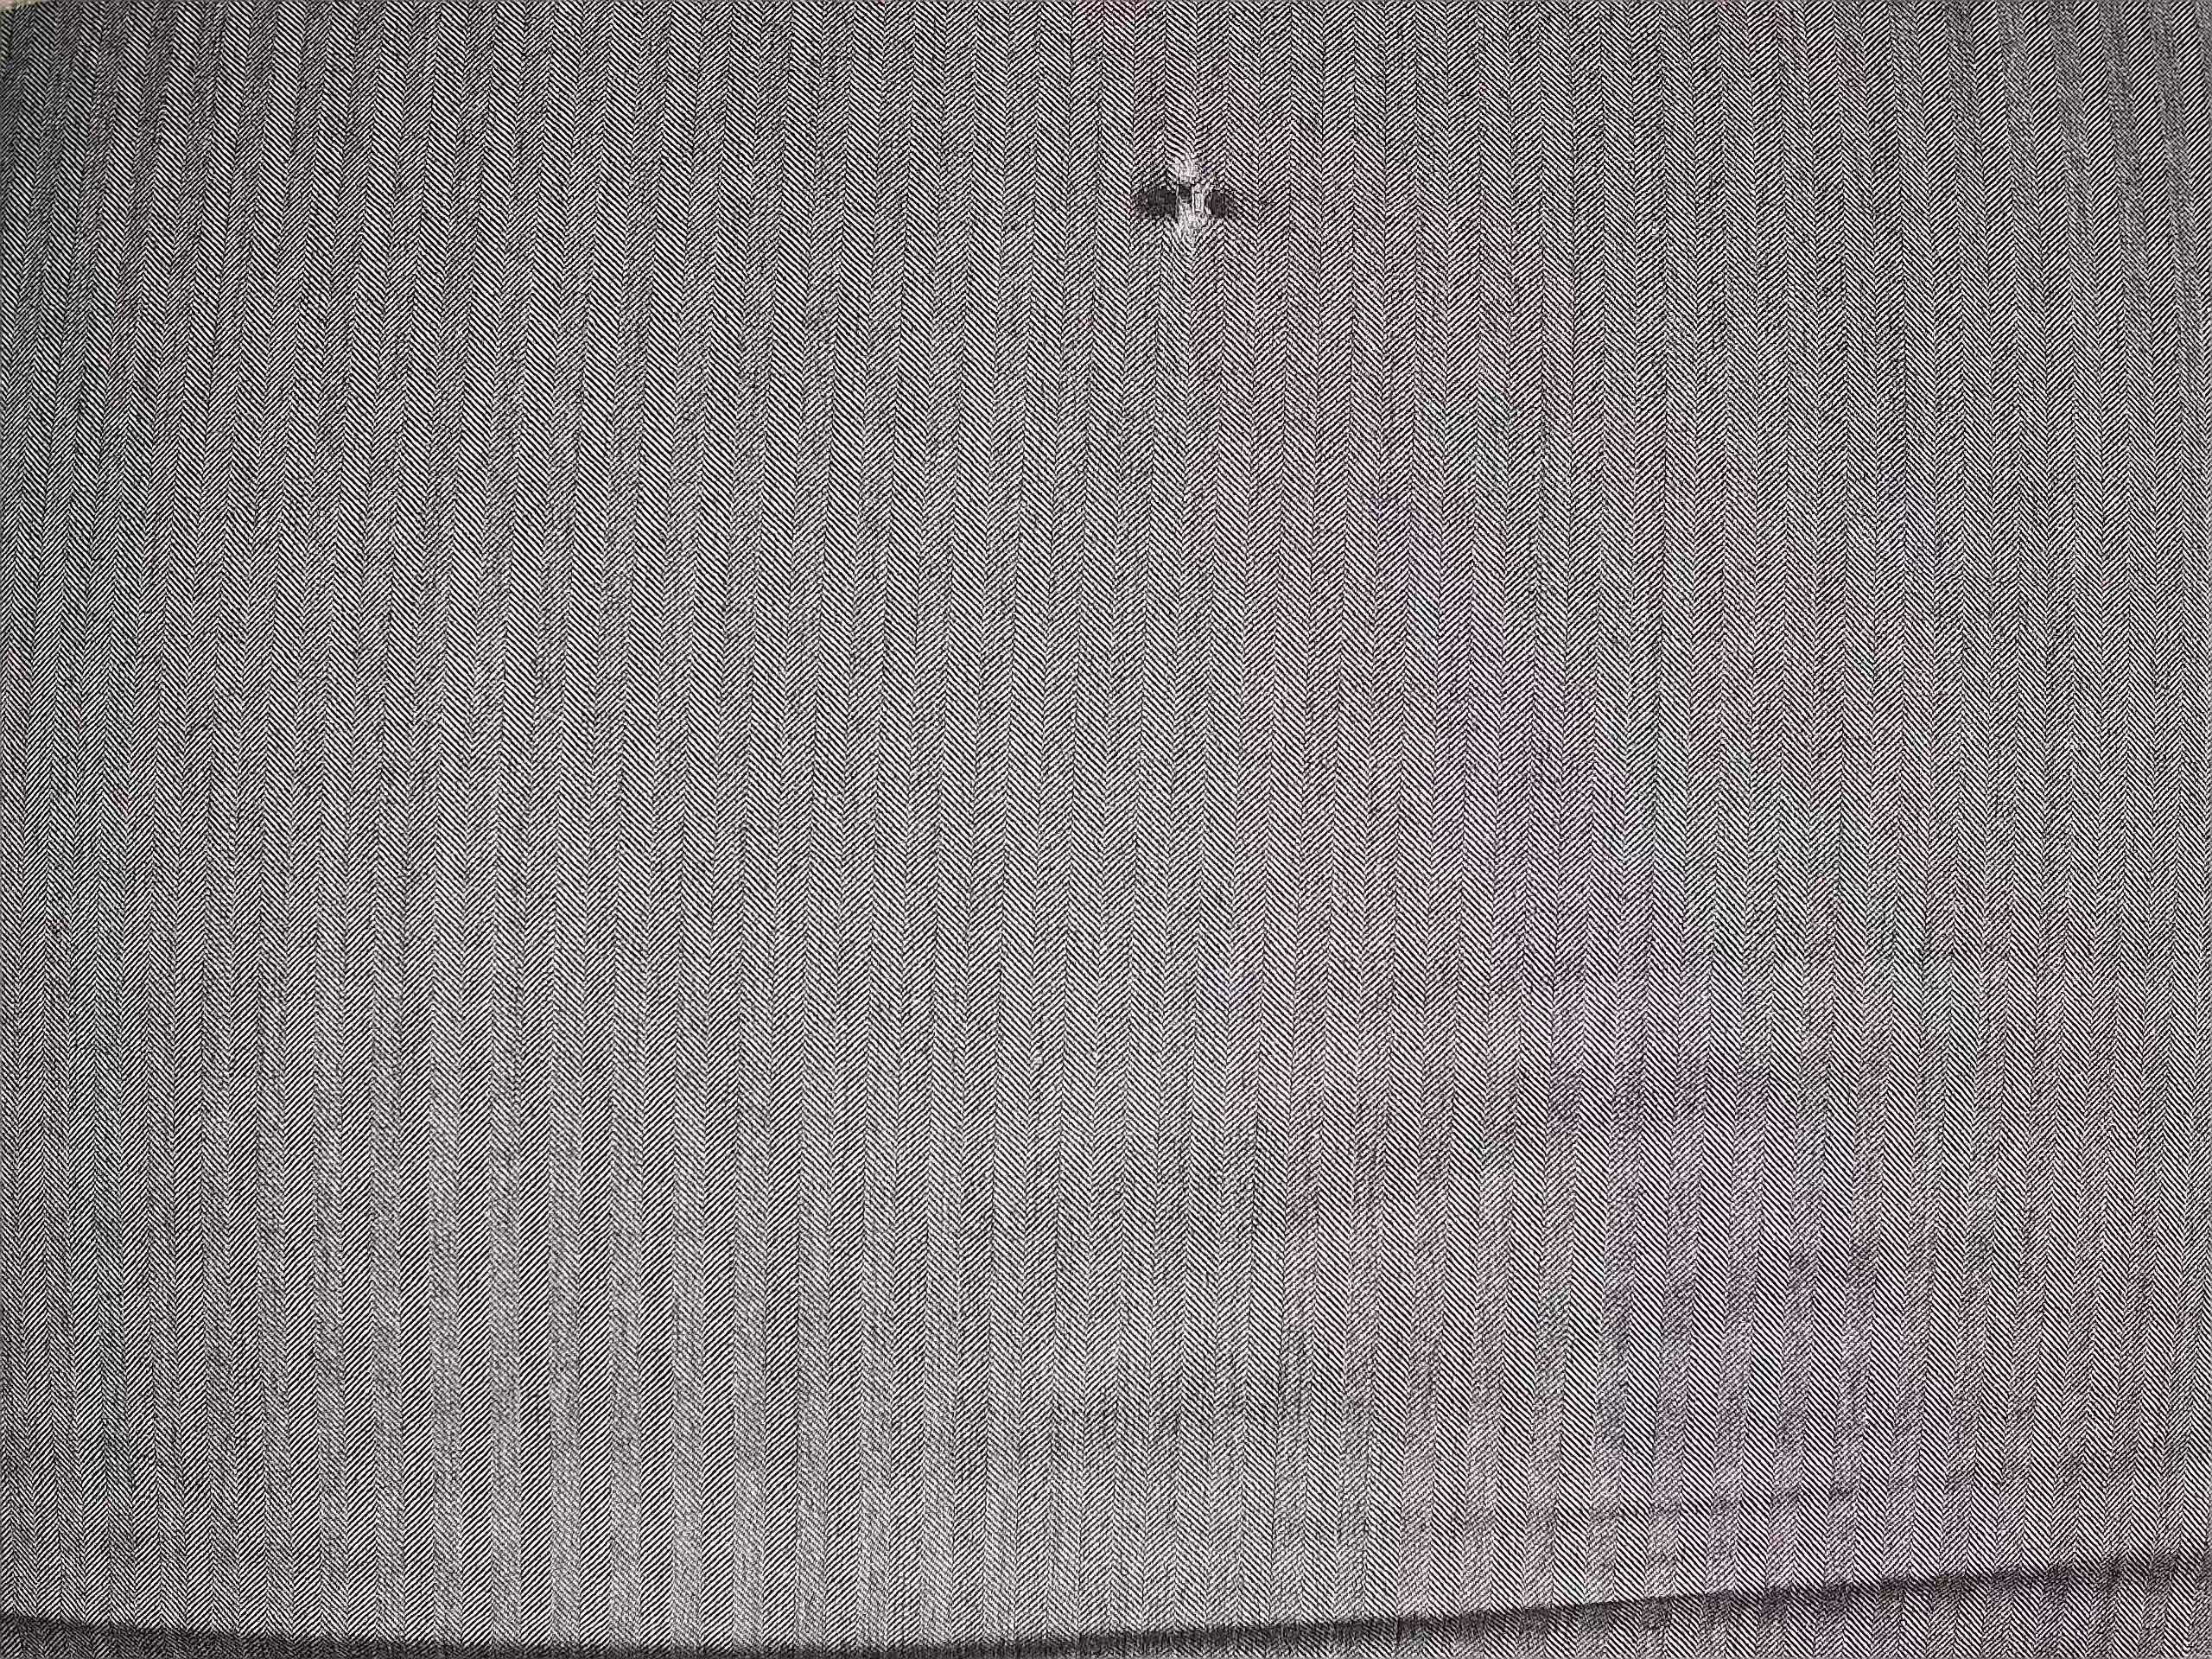rubbing-hole: (1123, 148, 1273, 256)
